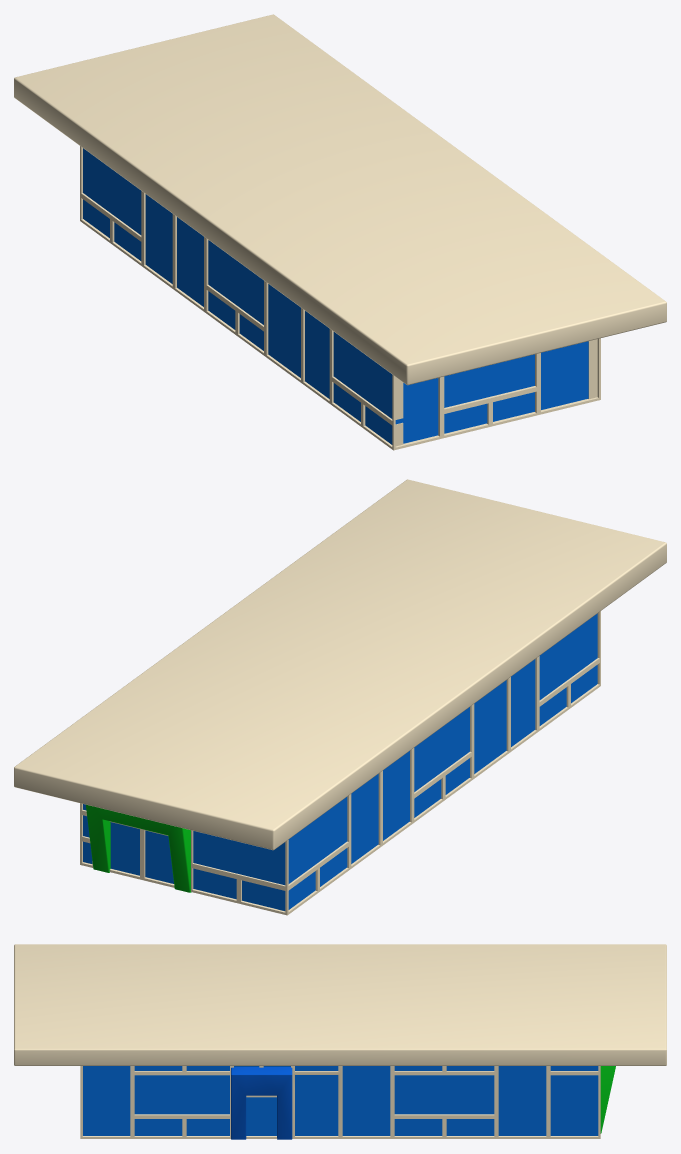
File: 셔틀콕.fbx
The picture shows the model from 3 angles, top to bottom: view 1: azimuth 30°, elevation 25°; view 2: azimuth 150°, elevation 25°; view 3: azimuth 270°, elevation 25°; orthographic projection. The views are drawn at different scales.
Parts seen in each view (by area): view 1: Cube_1, Cube_4, Cube; view 2: Cube_1, Cube_4, Cube, Cube_2; view 3: Cube_1, Cube_4, Cube, Cube_3, Cube_2.
Boxes of the visible parts, box(x1,y1,x2,y2) form: Cube_1: box(14, 14, 666, 385); Cube_4: box(83, 148, 588, 444); Cube: box(80, 146, 600, 450); Cube_1: box(14, 479, 666, 850); Cube_4: box(83, 613, 597, 910); Cube: box(80, 611, 600, 915); Cube_2: box(86, 804, 191, 892); Cube_1: box(14, 944, 666, 1065); Cube_4: box(83, 1066, 598, 1135); Cube: box(80, 1066, 600, 1138); Cube_3: box(231, 1067, 292, 1139); Cube_2: box(600, 1066, 615, 1133).
Bounding box in the file's own units: 119 × 52.9 × 310.
